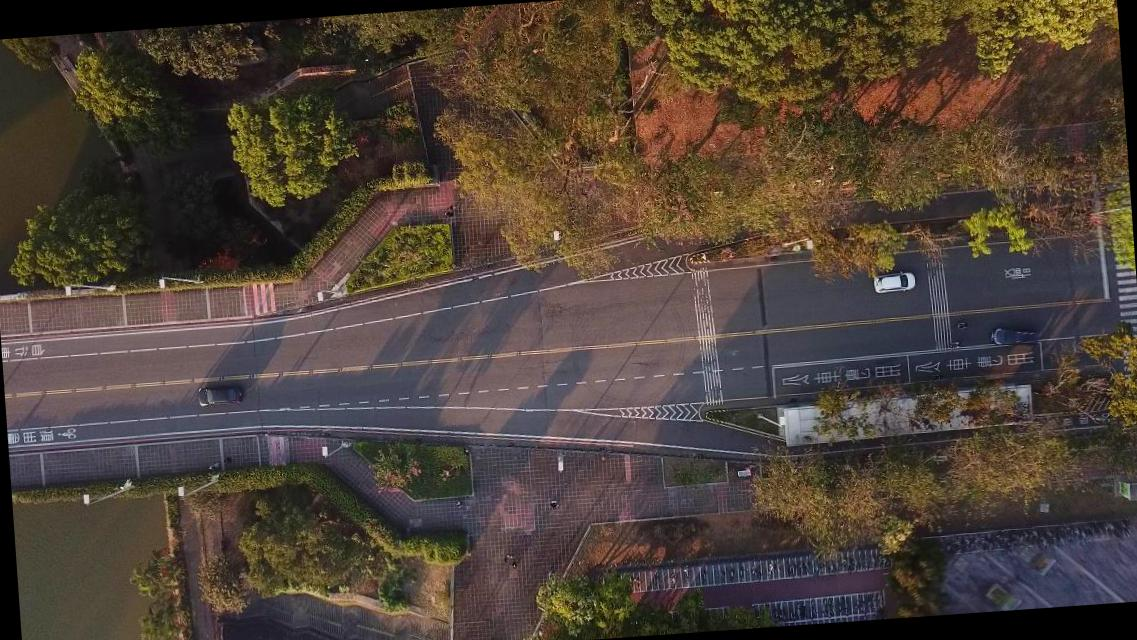vehicle: (990, 324, 1038, 348), (872, 268, 916, 292), (196, 384, 242, 406)
